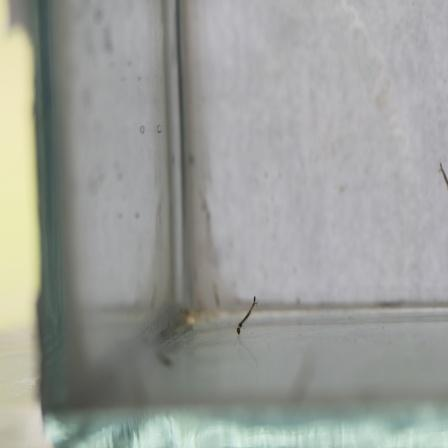Jentik-Nyamuk: (232, 290, 264, 337)
